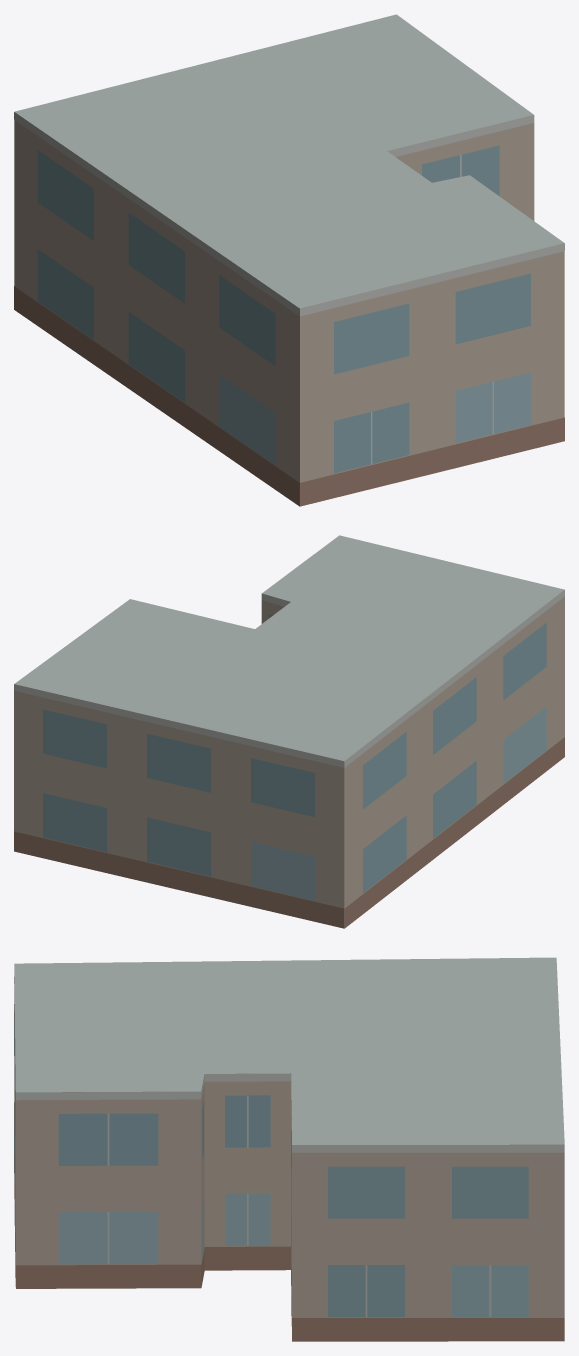
File: survey-upis-32942576.glb
The picture shows the model from 3 angles, top to bottom: view 1: azimuth 30°, elevation 25°; view 2: azimuth 150°, elevation 25°; view 3: azimuth 270°, elevation 25°; orthographic projection. The views are drawn at different scales.
Visible parts, largest first — view 1: survey-upis-32942576.tmp; view 2: survey-upis-32942576.tmp; view 3: survey-upis-32942576.tmp.
Boxes of the visible parts, left/top/right/bottom form: survey-upis-32942576.tmp: left=14, top=14, right=564, bottom=506; survey-upis-32942576.tmp: left=14, top=535, right=564, bottom=928; survey-upis-32942576.tmp: left=14, top=957, right=564, bottom=1341.
Size of the model in its own units: 12.49 by 6.1 by 15.5.
